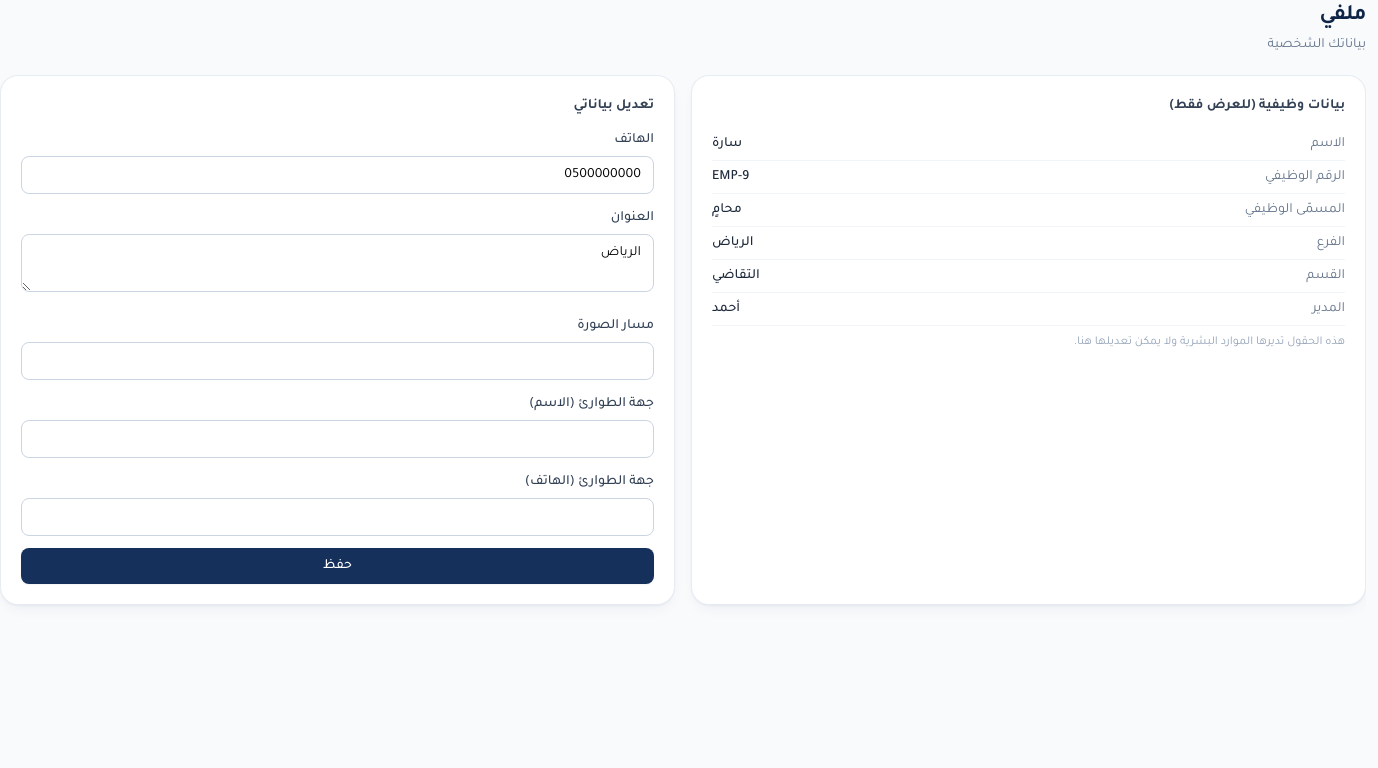
Test case: ProfilePage › يحفظ الحقول المسموحة فقط (لا يرسل حقولاً حسّاسة)
Replace the text in the field showing "0500000000" with "0555555555" at (338, 175), box [21,156,654,194]
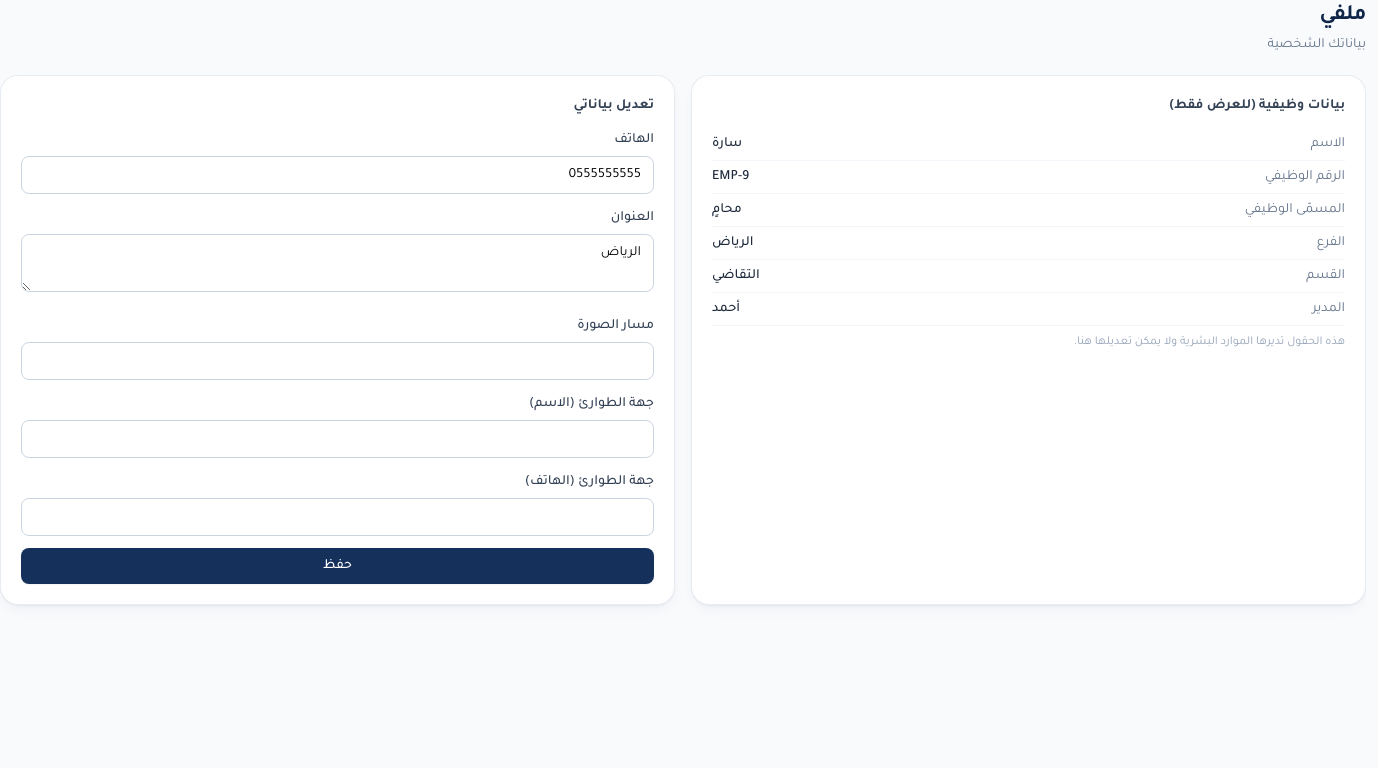
Click the button "حفظ".
click(338, 566)  # box [21,548,654,584]
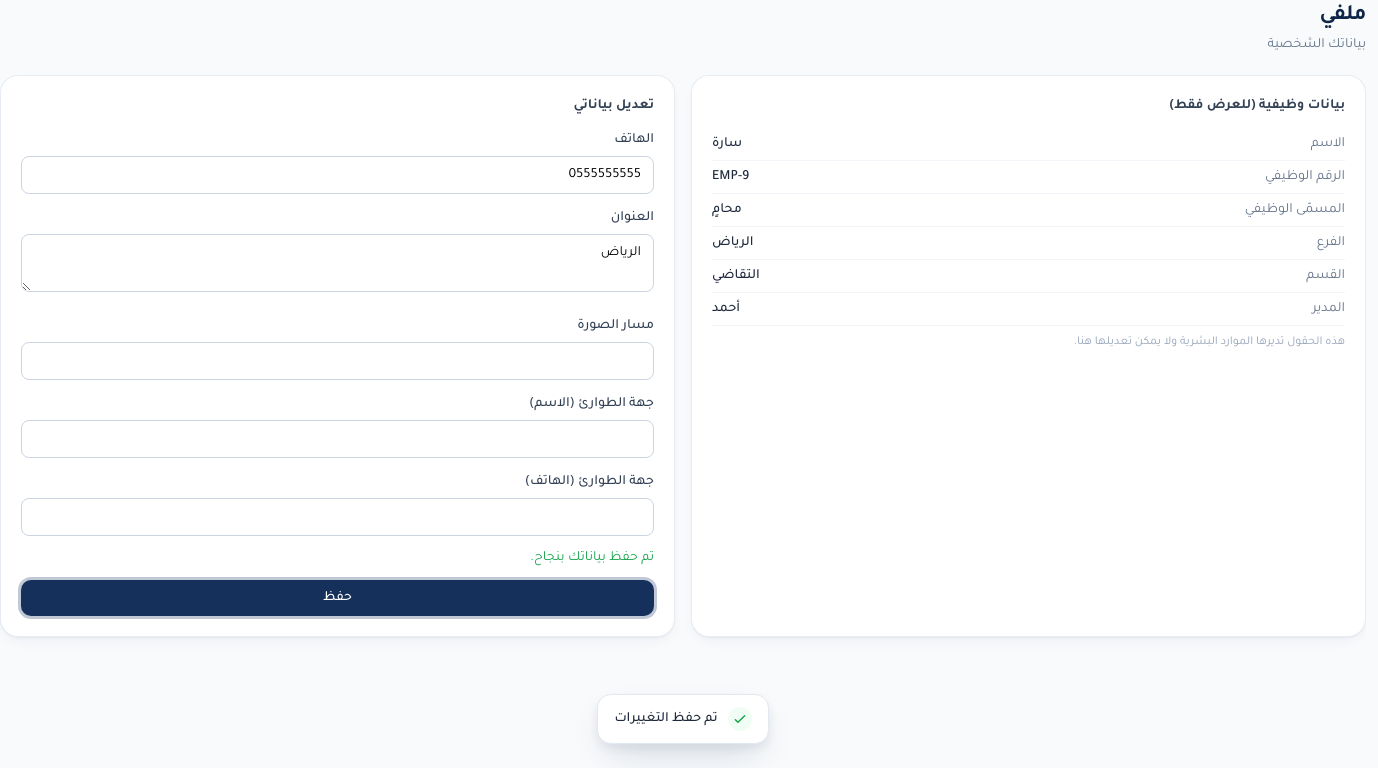
Check: the text "تم حفظ بياناتك بنجاح." is shown, box [530,551,654,565]
